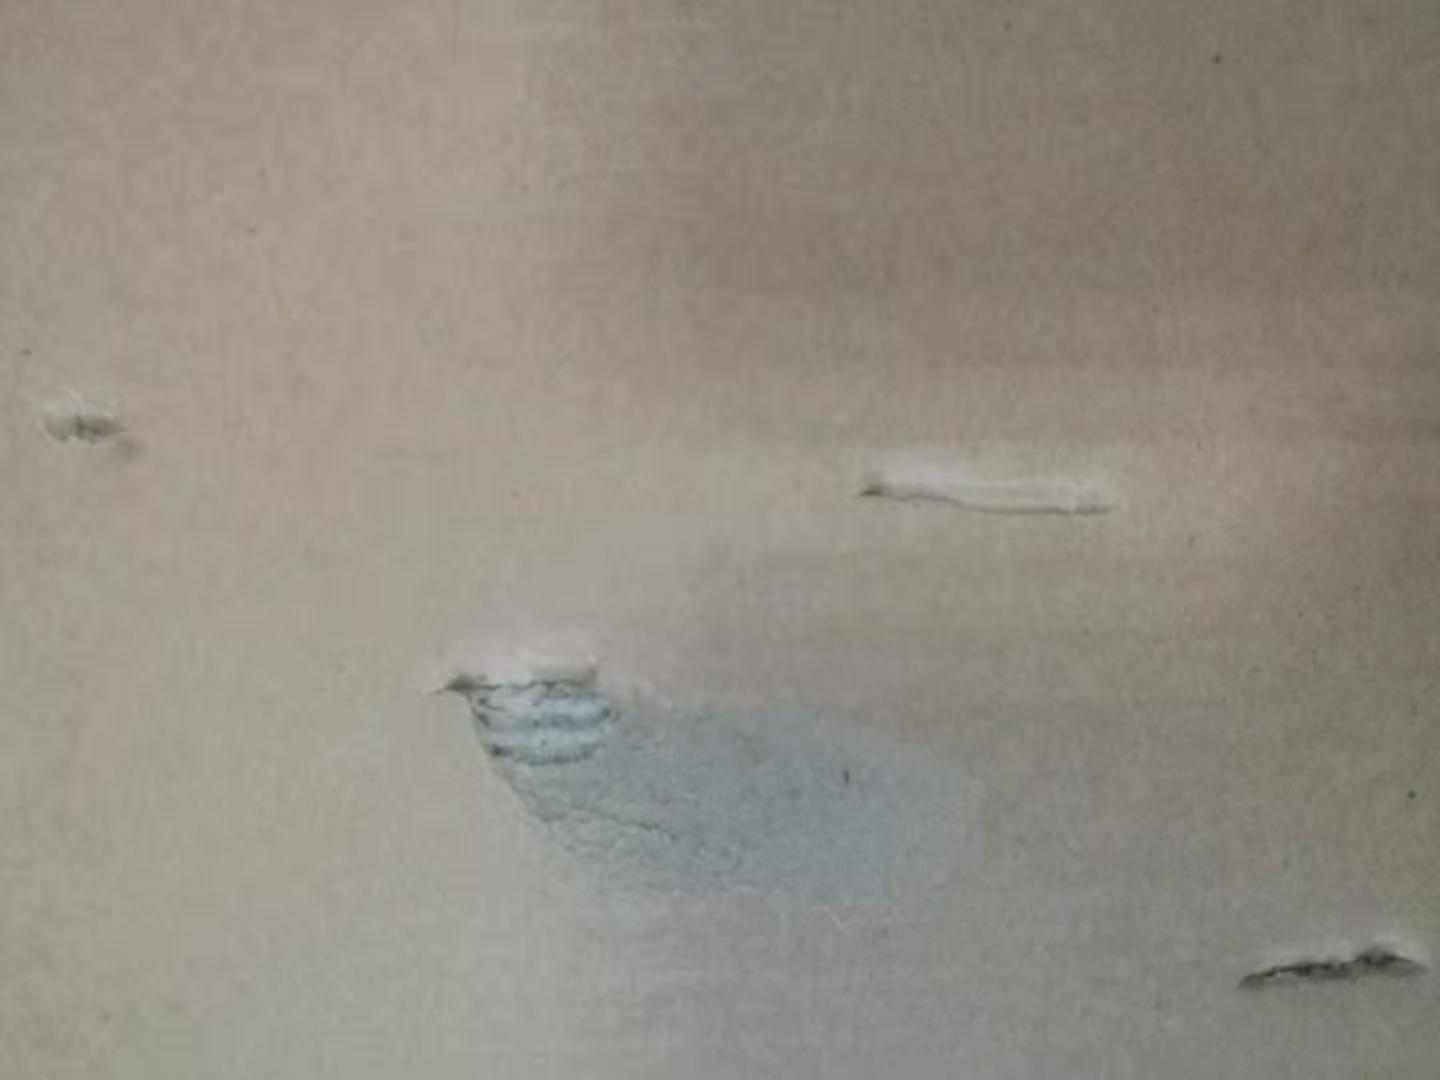defect: (403, 611, 1016, 977), (825, 429, 1149, 547), (1208, 913, 1440, 1015), (20, 363, 166, 488)
